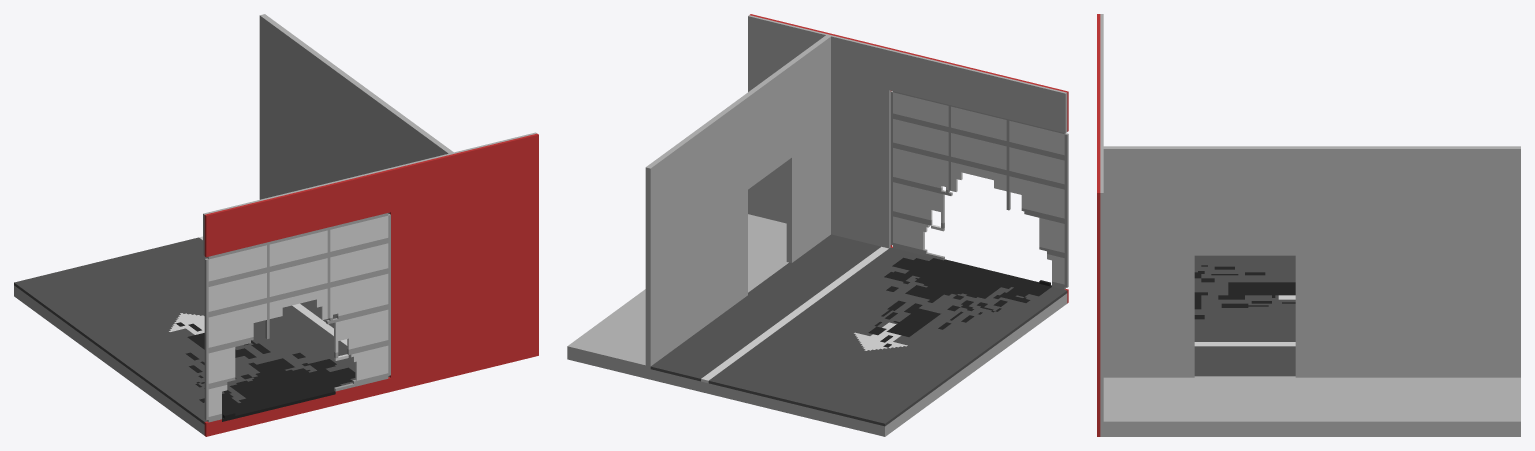
File: 4x2 first (2)-3.obj
3 renders of one model, left to right at view 1: azimuth 30°, elevation 25°; view 2: azimuth 150°, elevation 25°; view 3: azimuth 270°, elevation 25°, orthographic. The views are drawn at different scales.
Visible parts, largest first — view 1: 4x2 first (2)-3; view 2: 4x2 first (2)-3; view 3: 4x2 first (2)-3.
Part boxes in pixels (bbox=[...]): 4x2 first (2)-3: bbox=[14, 14, 538, 436]; 4x2 first (2)-3: bbox=[567, 14, 1068, 436]; 4x2 first (2)-3: bbox=[1097, 14, 1520, 436].
Bounding box in the file's own units: 126 × 80 × 126.
Materials: 1 (1 with a texture image).
